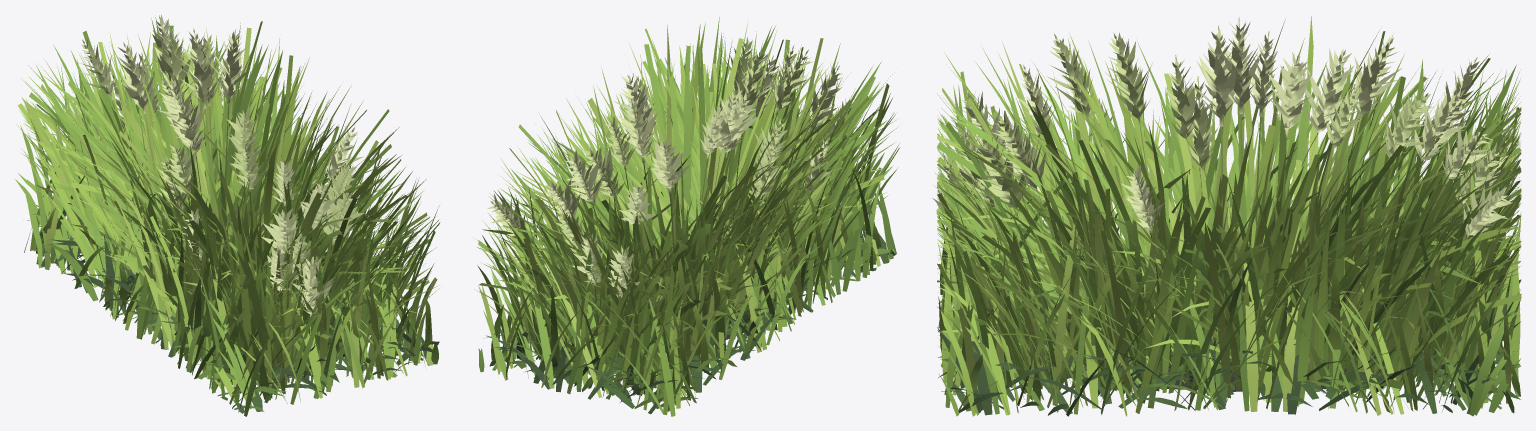
File: flora_grass_1_seeded_meadow_grass.glb
The picture shows the model from 3 angles, left to right: view 1: azimuth 30°, elevation 25°; view 2: azimuth 150°, elevation 25°; view 3: azimuth 270°, elevation 25°; orthographic projection. The views are drawn at different scales.
Parts seen in each view (by area): view 1: blades, seed heads, stalks; view 2: blades, seed heads, stalks; view 3: blades, seed heads, stalks.
Boxes of the visible parts, bbox=[...] form: blades: bbox=[15, 17, 441, 416]; seed heads: bbox=[70, 14, 364, 316]; stalks: bbox=[113, 99, 333, 382]; blades: bbox=[474, 17, 900, 416]; seed heads: bbox=[487, 37, 858, 299]; stalks: bbox=[593, 106, 805, 382]; blades: bbox=[936, 16, 1521, 416]; seed heads: bbox=[932, 17, 1513, 239]; stalks: bbox=[983, 114, 1461, 388].
Bounding box in the file's own units: 1 × 1.2 × 2.
